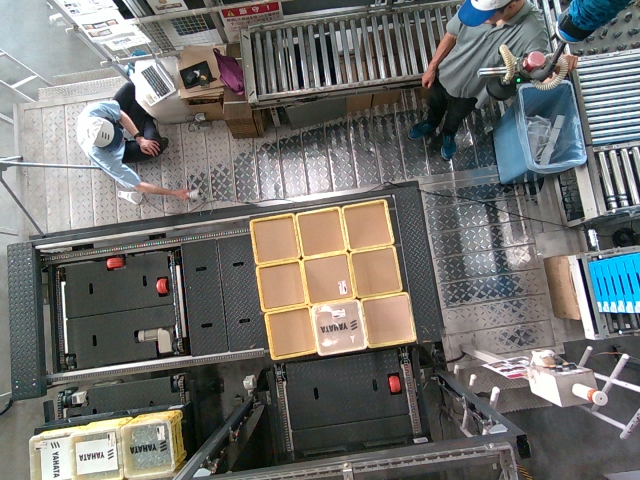box: (250, 216, 299, 262), (295, 208, 344, 254), (344, 202, 393, 248), (352, 250, 401, 296), (303, 254, 352, 300), (257, 263, 306, 309), (267, 310, 316, 356), (314, 304, 363, 350), (364, 296, 413, 342)
